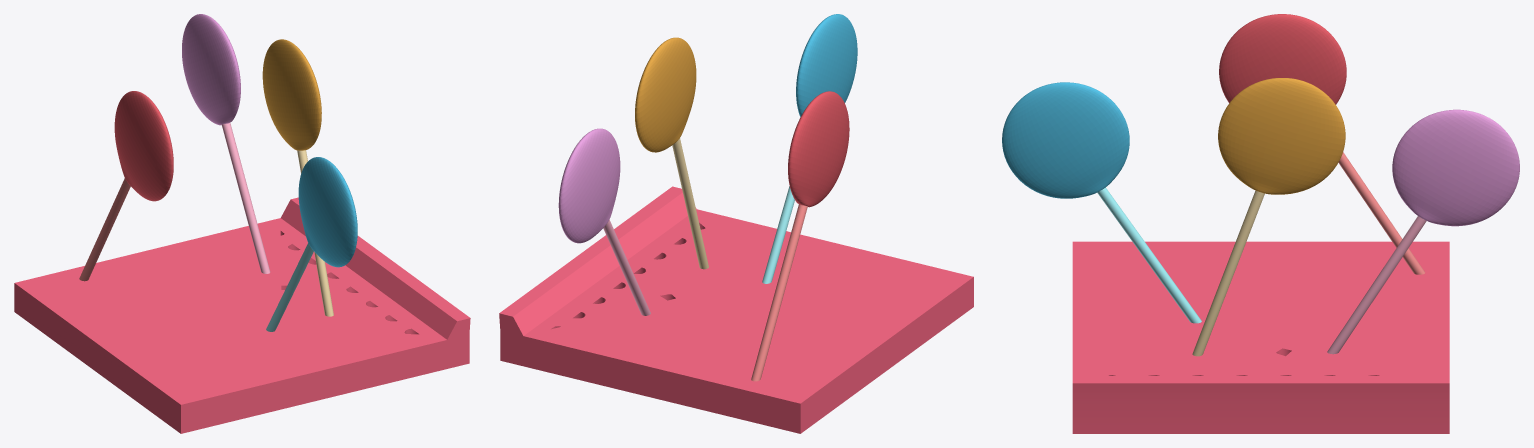
The model's file is lolipop1.fbx.
3 renders of one model, left to right at view 1: azimuth 30°, elevation 25°; view 2: azimuth 150°, elevation 25°; view 3: azimuth 270°, elevation 25°, orthographic. The views are drawn at different scales.
Visible parts, largest first — view 1: Plane.001, blue, red, yellow, purple, Vert.002, Vert.003, Vert.001, Vert; view 2: Plane.001, purple, yellow, red, blue, Vert.003, Vert, Vert.002, Vert.001; view 3: Plane.001, purple, yellow, blue, red, Vert, Vert.001, Vert.002, Vert.003.
Part boxes in pixels (x1,y1,x2,y2): Plane.001: [14, 197, 470, 433]; blue: [298, 157, 357, 267]; red: [114, 91, 173, 201]; yellow: [262, 39, 321, 150]; purple: [182, 14, 240, 125]; Vert.002: [222, 123, 270, 273]; Vert.003: [79, 178, 130, 281]; Vert.001: [266, 243, 313, 331]; Vert: [297, 150, 333, 316]; Plane.001: [499, 186, 973, 433]; purple: [558, 128, 620, 243]; yellow: [635, 37, 696, 152]; red: [788, 91, 849, 207]; blue: [796, 14, 857, 116]; Vert.003: [751, 204, 807, 381]; Vert: [672, 138, 708, 269]; Vert.002: [603, 219, 650, 315]; Vert.001: [762, 186, 794, 283]; Plane.001: [1072, 241, 1449, 433]; purple: [1392, 109, 1519, 226]; yellow: [1218, 78, 1345, 194]; blue: [1002, 82, 1129, 198]; red: [1219, 14, 1346, 104]; Vert: [1192, 190, 1264, 356]; Vert.001: [1097, 187, 1201, 323]; Vert.002: [1327, 216, 1426, 354]; Vert.003: [1338, 152, 1425, 274].
Bounding box in the file's own units: 820 × 739 × 1123.
